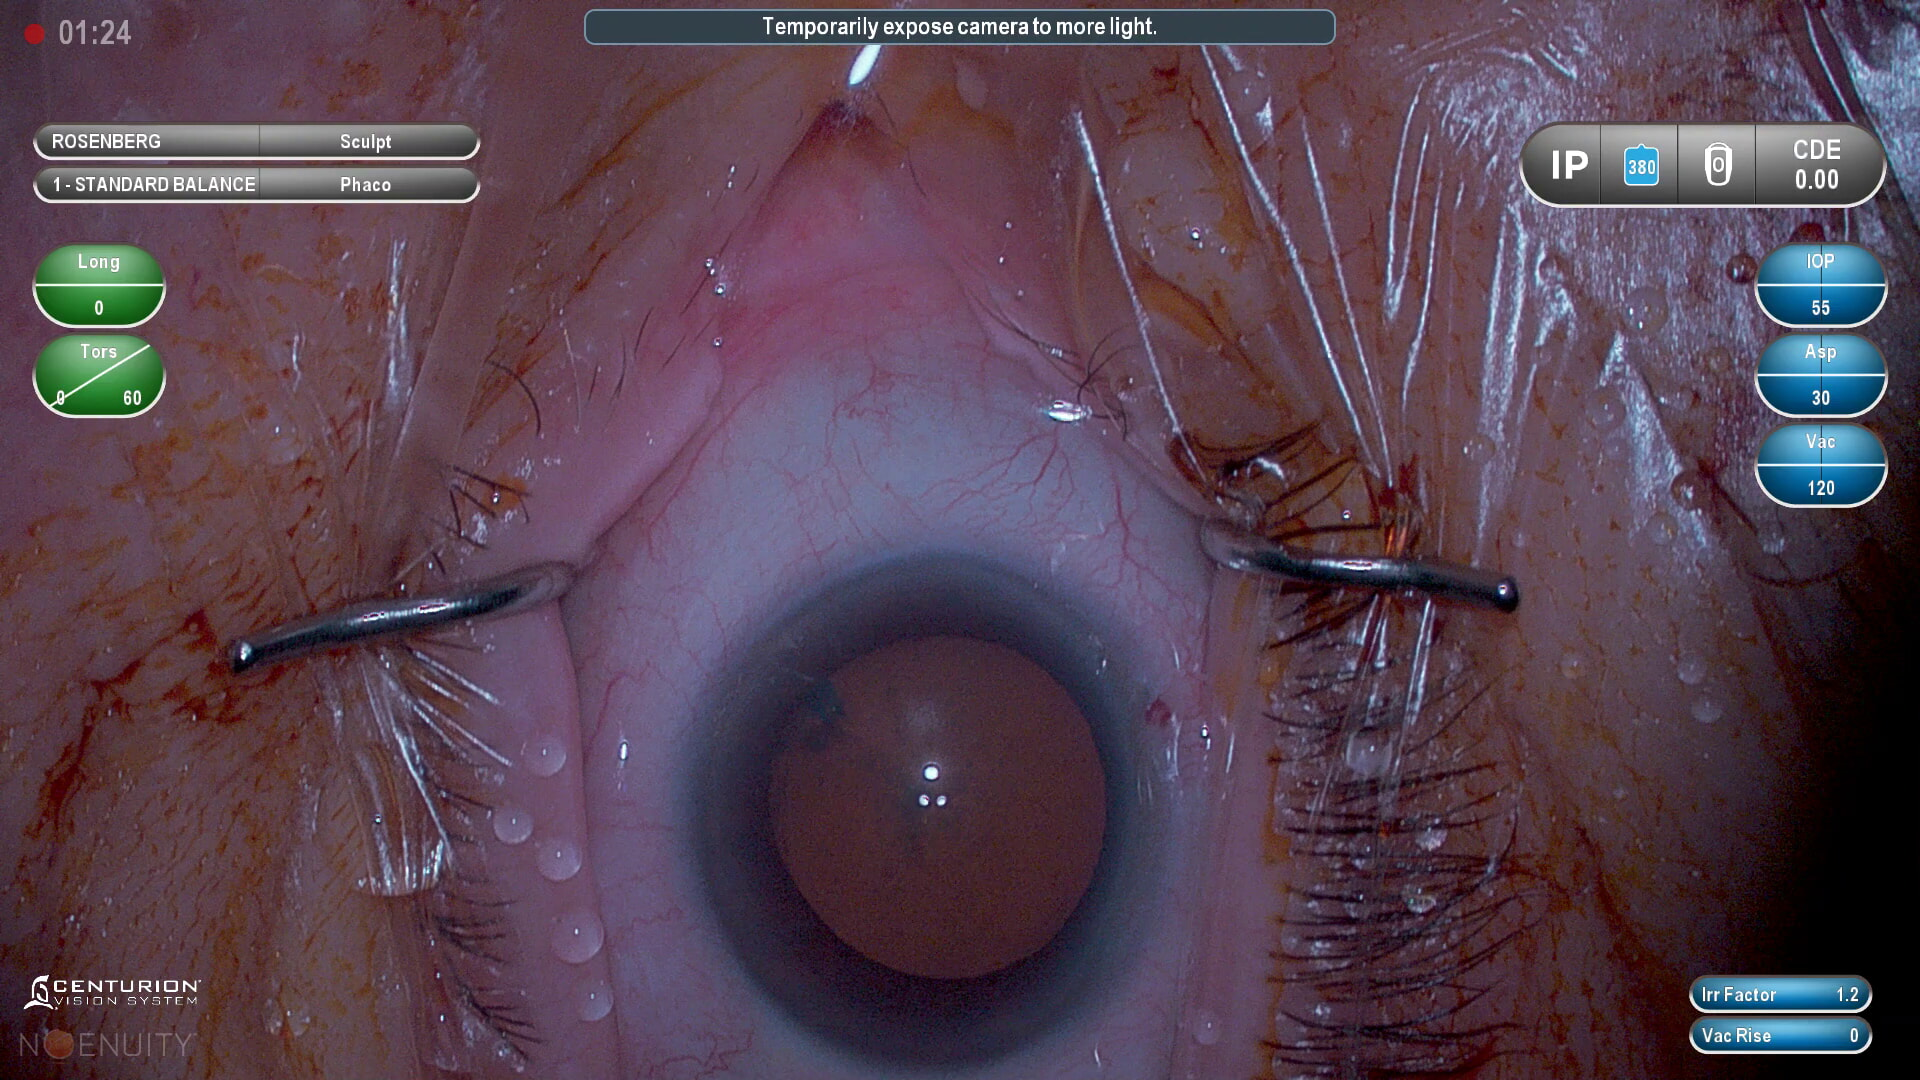iris: (708, 563, 1171, 1077)
pupil: (764, 636, 1115, 975)
